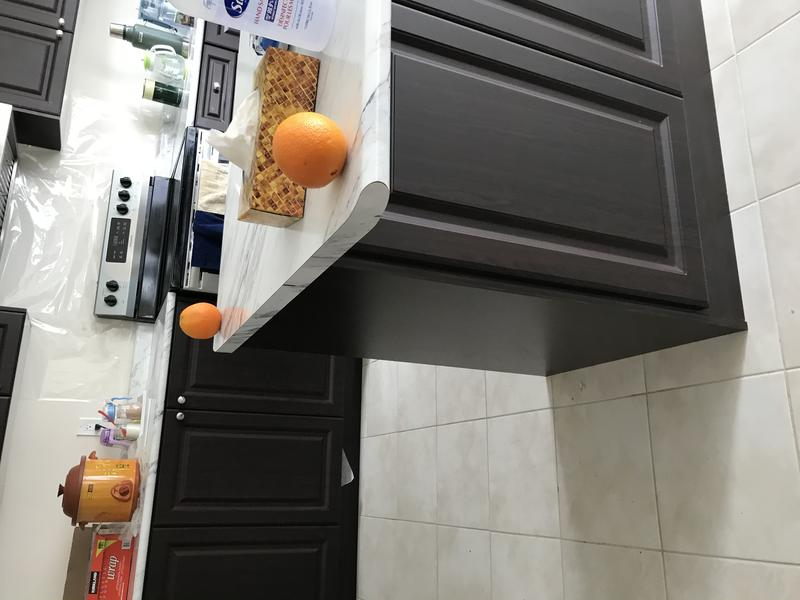orange: (267, 108, 353, 190), (174, 298, 228, 343)
